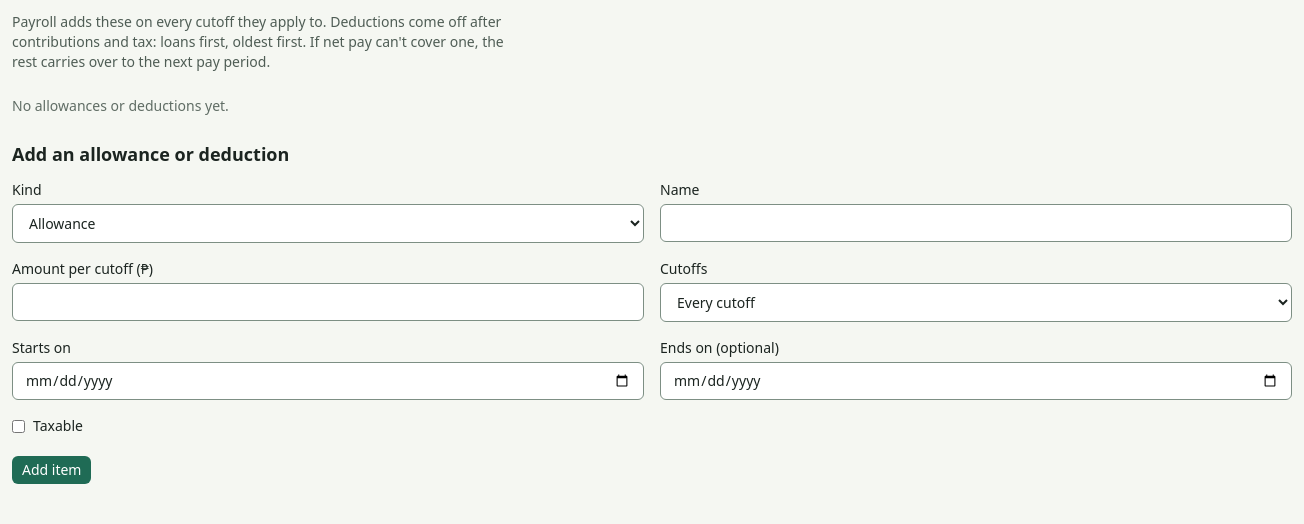
Test: PayItemsTab › shows the server's field errors
Expected: the text "No allowances or deductions yet." is shown, [12,96,229,115]
In the field labelled "Name": (976, 223) [660,204,1292,242], type "Bonus"
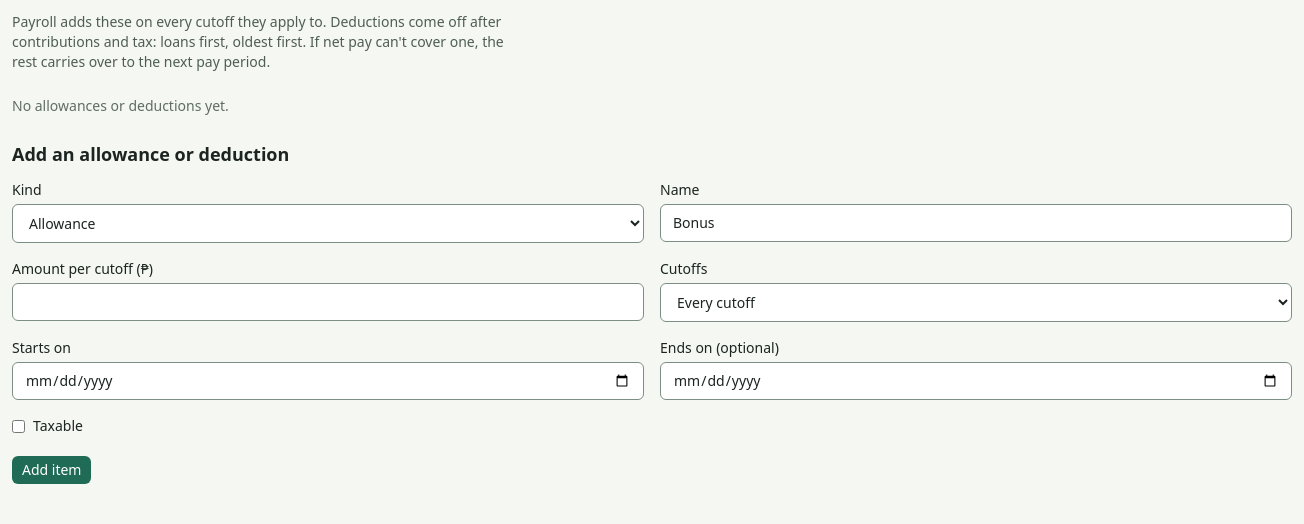
In the field labelled "Amount per cutoff (₱)": (328, 302) [12,283,644,321], type "99999999"
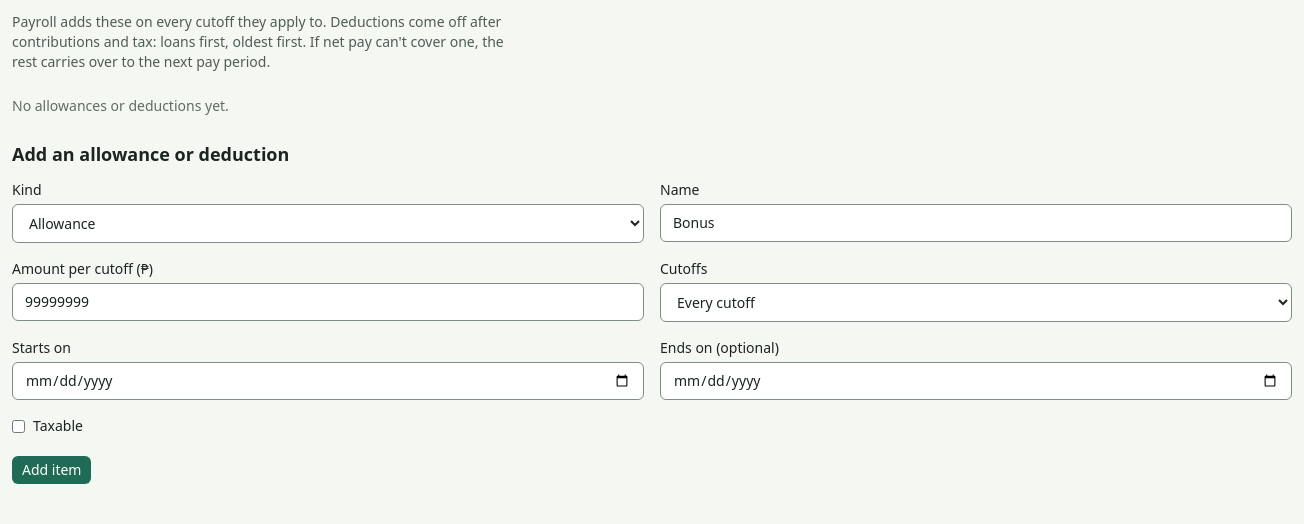
In the date field labelled "Starts on": (328, 381) [12,362,644,400], type "2026-11-01"
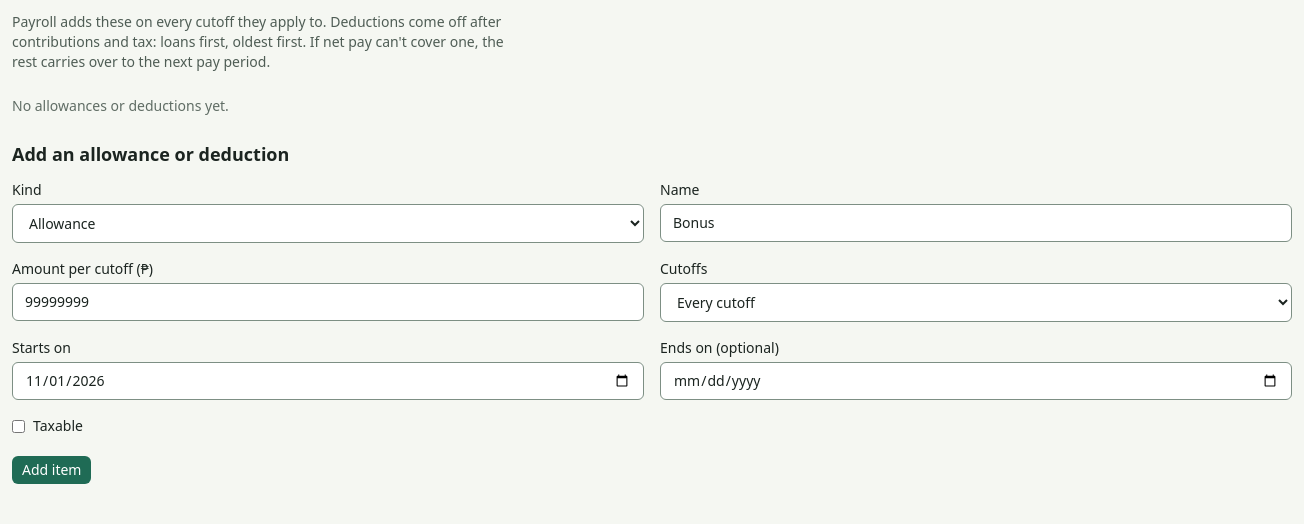
Click the button "Add item": (52, 470) [12,456,92,484]
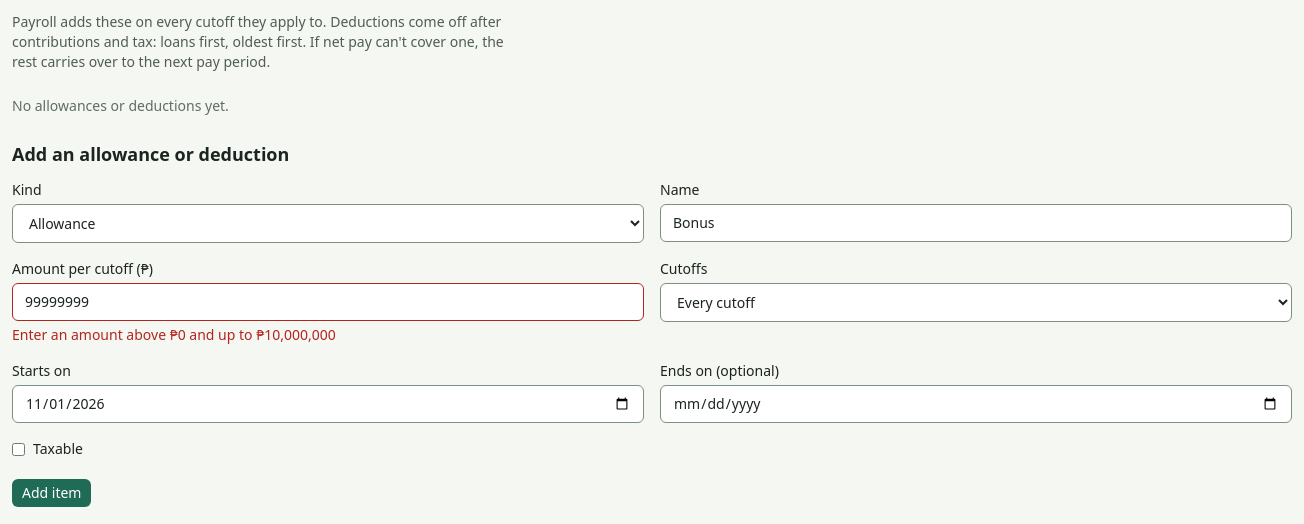
Now the text "Enter an amount above ₱0 and up to ₱10,000,000" is shown, box [12,325,336,344]
